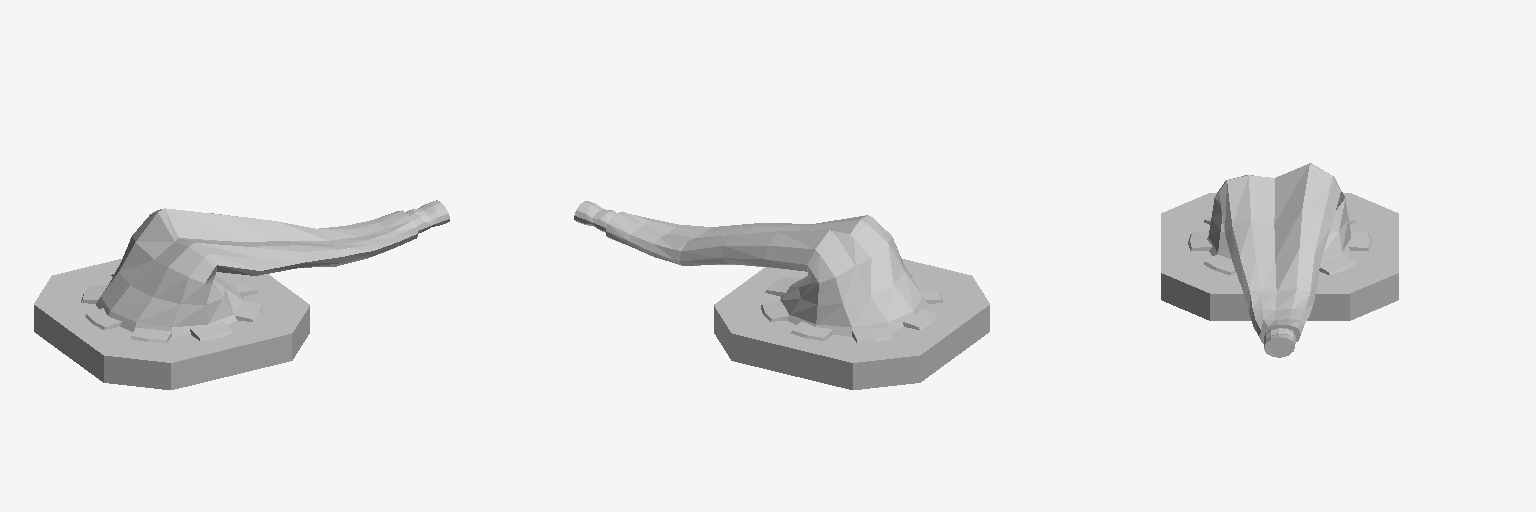
File: Traffic Cone Broken.obj
The picture shows the model from 3 angles: view 1: azimuth 30°, elevation 25°; view 2: azimuth 150°, elevation 25°; view 3: azimuth 270°, elevation 25°; orthographic projection.
Parts seen in each view (by area): view 1: Traffic_Cone_Broken; view 2: Traffic_Cone_Broken; view 3: Traffic_Cone_Broken.
Boxes of the visible parts, x1,y1,x2,y2 form: Traffic_Cone_Broken: [34, 200, 449, 389]; Traffic_Cone_Broken: [574, 201, 989, 389]; Traffic_Cone_Broken: [1161, 163, 1398, 357].
Bounding box in the file's own units: 85.97 × 24.33 × 47.46.